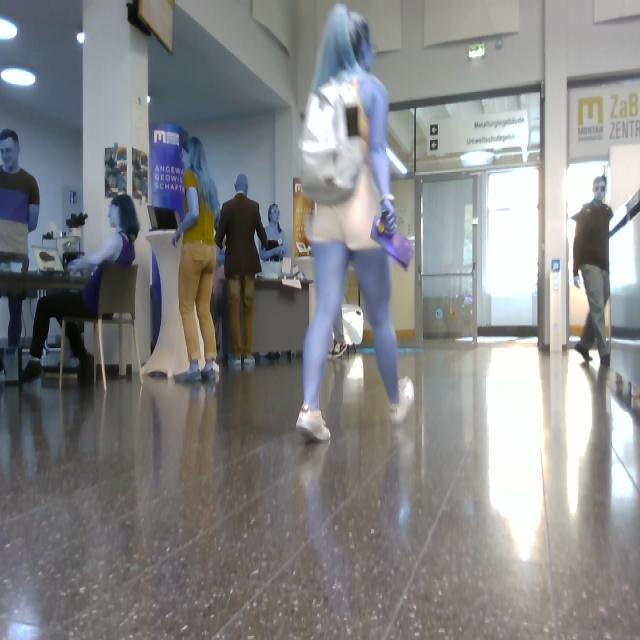backpack: (301, 78, 364, 205)
chair: (85, 265, 142, 382), (61, 317, 79, 388), (119, 341, 126, 374)
door: (474, 168, 539, 337), (419, 180, 477, 338)
light bulb: (461, 150, 495, 168), (1, 69, 36, 86), (388, 148, 408, 176), (1, 18, 18, 41)
person: (297, 6, 415, 441), (24, 194, 140, 382), (217, 176, 280, 366), (173, 137, 220, 382), (574, 176, 613, 366), (1, 130, 40, 270), (262, 205, 285, 262), (8, 292, 24, 353)
pillar: (83, 1, 152, 364)
table: (144, 232, 189, 377), (1, 266, 87, 297)
tiled floor: (1, 345, 640, 640)
